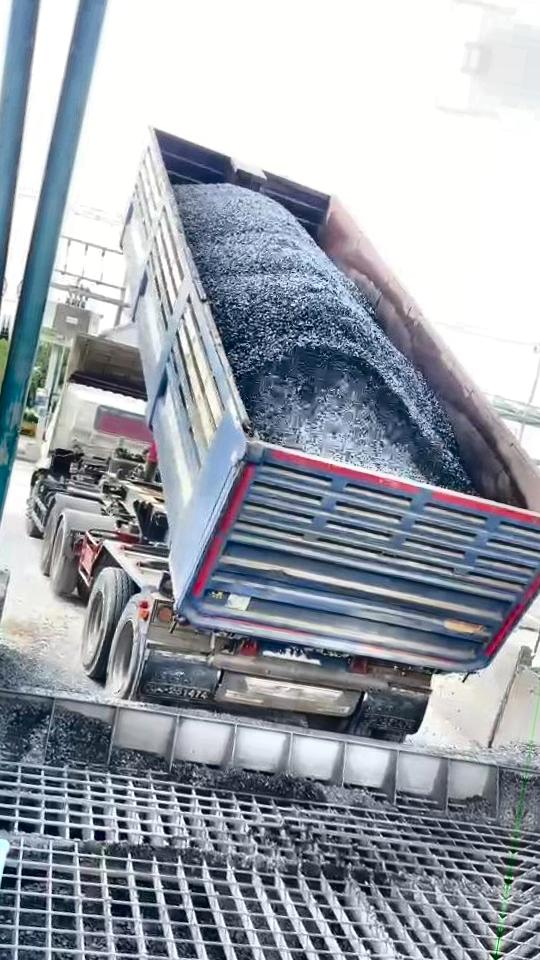gravel: (176, 185, 471, 491), (110, 748, 387, 809), (0, 644, 112, 760), (437, 741, 529, 775), (497, 768, 524, 828), (0, 597, 2, 661)
